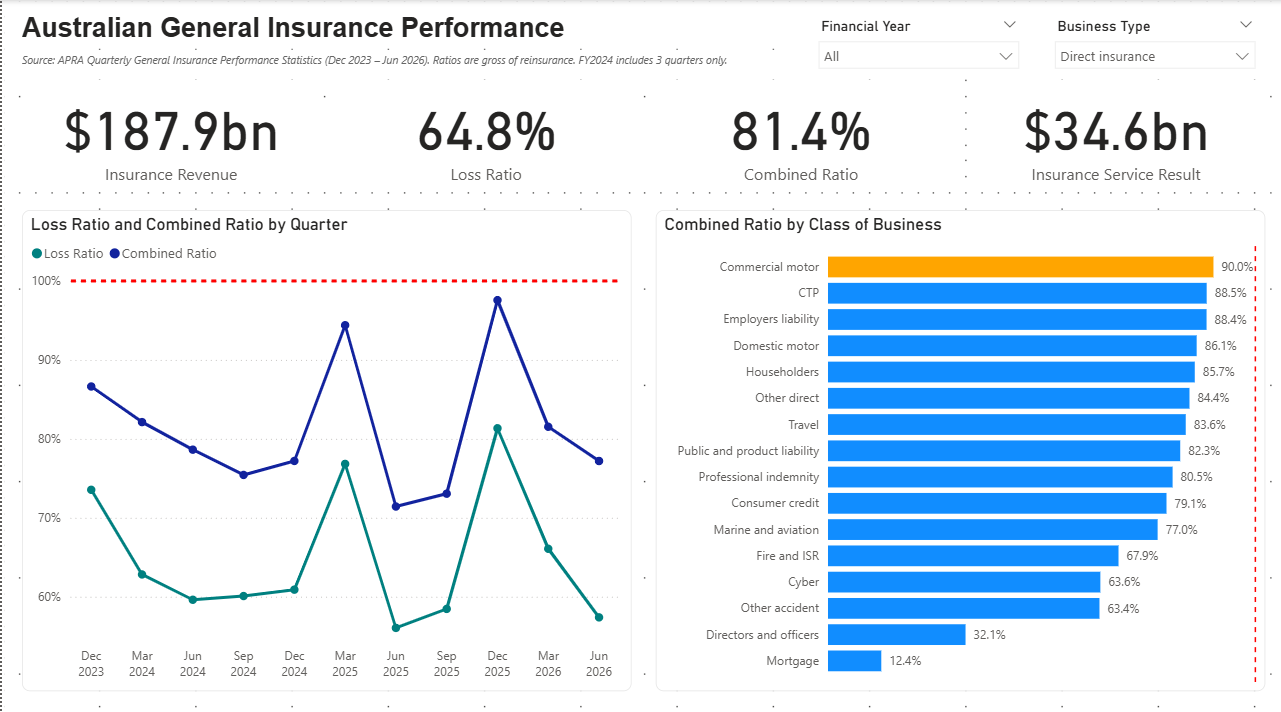

Layout of this report page (visuals, bound fields, positions):
{"tool":"powerbi","page":{"name":"Overview","canvas":[1280,720],"ordinal":0},"visuals":[{"type":"textbox","box":[20,12,760,36],"z":0},{"type":"slicer","fields":{"Values":["dim_quarter.financial_year"]},"box":[804,12,220,56],"z":1000},{"type":"slicer","fields":{"Values":["dim_class.class_group"]},"box":[1040,12,220,56],"z":2000},{"type":"card","fields":{"Values":["_Measures.Insurance Revenue"]},"box":[20,80,298,110],"z":3000},{"type":"card","fields":{"Values":["_Measures.Loss Ratio"]},"box":[334,80,298,110],"z":4000},{"type":"card","fields":{"Values":["_Measures.Combined Ratio"]},"box":[648,80,298,110],"z":5000},{"type":"card","fields":{"Values":["_Measures.Insurance Service Result"]},"box":[962,80,298,110],"z":6000},{"type":"clusteredBarChart","title":"Combined Ratio by Class of Business","fields":{"Category":["dim_class.class_of_business"],"Y":["_Measures.Combined Ratio"]},"box":[652,210,608,480],"z":7000},{"type":"lineChart","title":"Loss Ratio and Combined Ratio by Quarter","fields":{"Category":["dim_quarter.quarter_label"],"Y":["_Measures.Loss Ratio","_Measures.Combined Ratio"]},"box":[20,210,608,480],"z":8000},{"type":"textbox","box":[20,50,760,24],"z":9000}]}

Visuals, with their boxes in screenshot pixels (x1, y1, x2, y2), scaled from the page's 1280x720 canvas onto the 1281x712 screenshot:
textbox: box=[20, 12, 781, 47]
slicer - dim_quarter.financial_year: box=[805, 12, 1025, 67]
slicer - dim_class.class_group: box=[1041, 12, 1261, 67]
card - _Measures.Insurance Revenue: box=[20, 79, 318, 188]
card - _Measures.Loss Ratio: box=[334, 79, 632, 188]
card - _Measures.Combined Ratio: box=[649, 79, 947, 188]
card - _Measures.Insurance Service Result: box=[963, 79, 1261, 188]
"Combined Ratio by Class of Business" clusteredBarChart: box=[653, 208, 1261, 682]
"Loss Ratio and Combined Ratio by Quarter" lineChart: box=[20, 208, 628, 682]
textbox: box=[20, 49, 781, 73]
